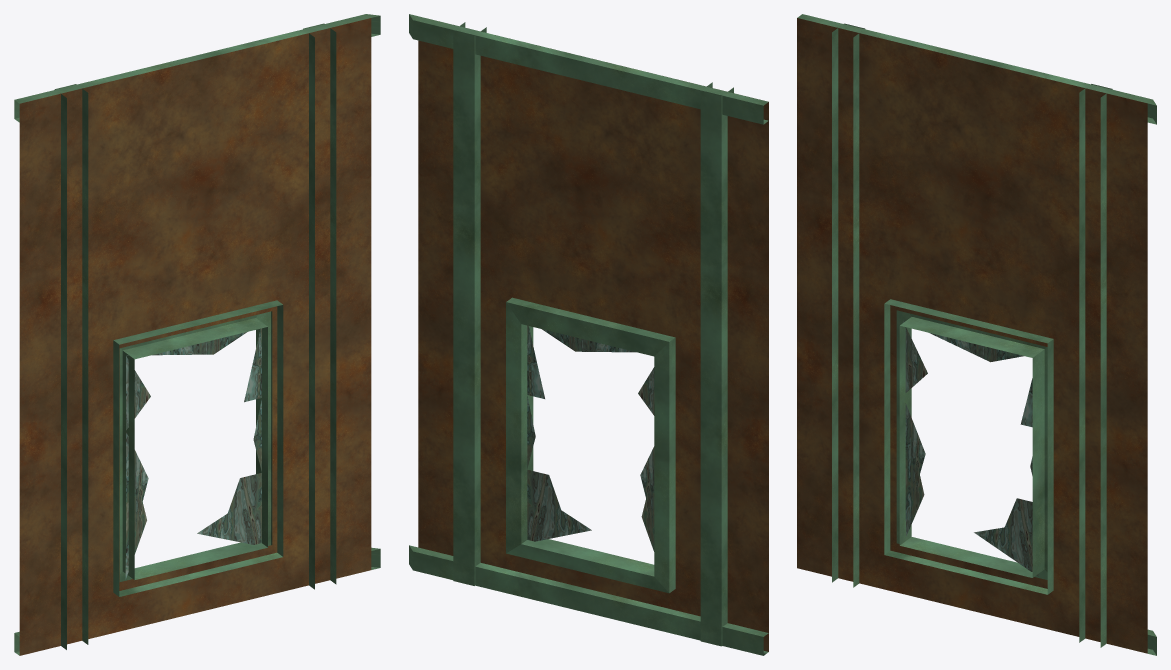
The model's file is Wall1_MidShip_Corner2.FBX.
3 renders of one model, left to right at view 1: azimuth 30°, elevation 25°; view 2: azimuth 150°, elevation 25°; view 3: azimuth 330°, elevation 25°, orthographic.
Parts seen in each view (by area): view 1: Plane023; view 2: Plane023; view 3: Plane023.
Part boxes in pixels (x1=…): Plane023: x1=14, y1=14, x2=380, y2=655; Plane023: x1=409, y1=14, x2=768, y2=655; Plane023: x1=797, y1=14, x2=1156, y2=655.
Size of the model in its own units: 205 by 300 by 12.01.
